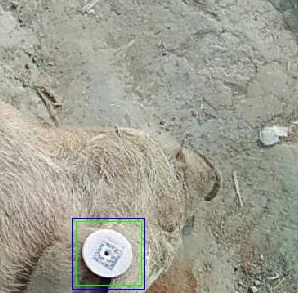text: (76, 221, 141, 285)
